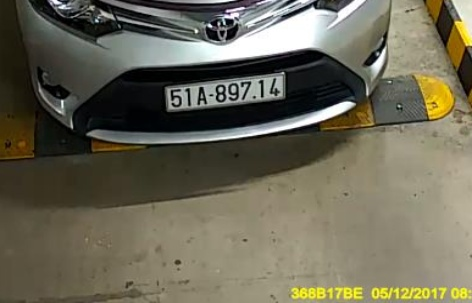plate: (155, 66, 291, 115)
